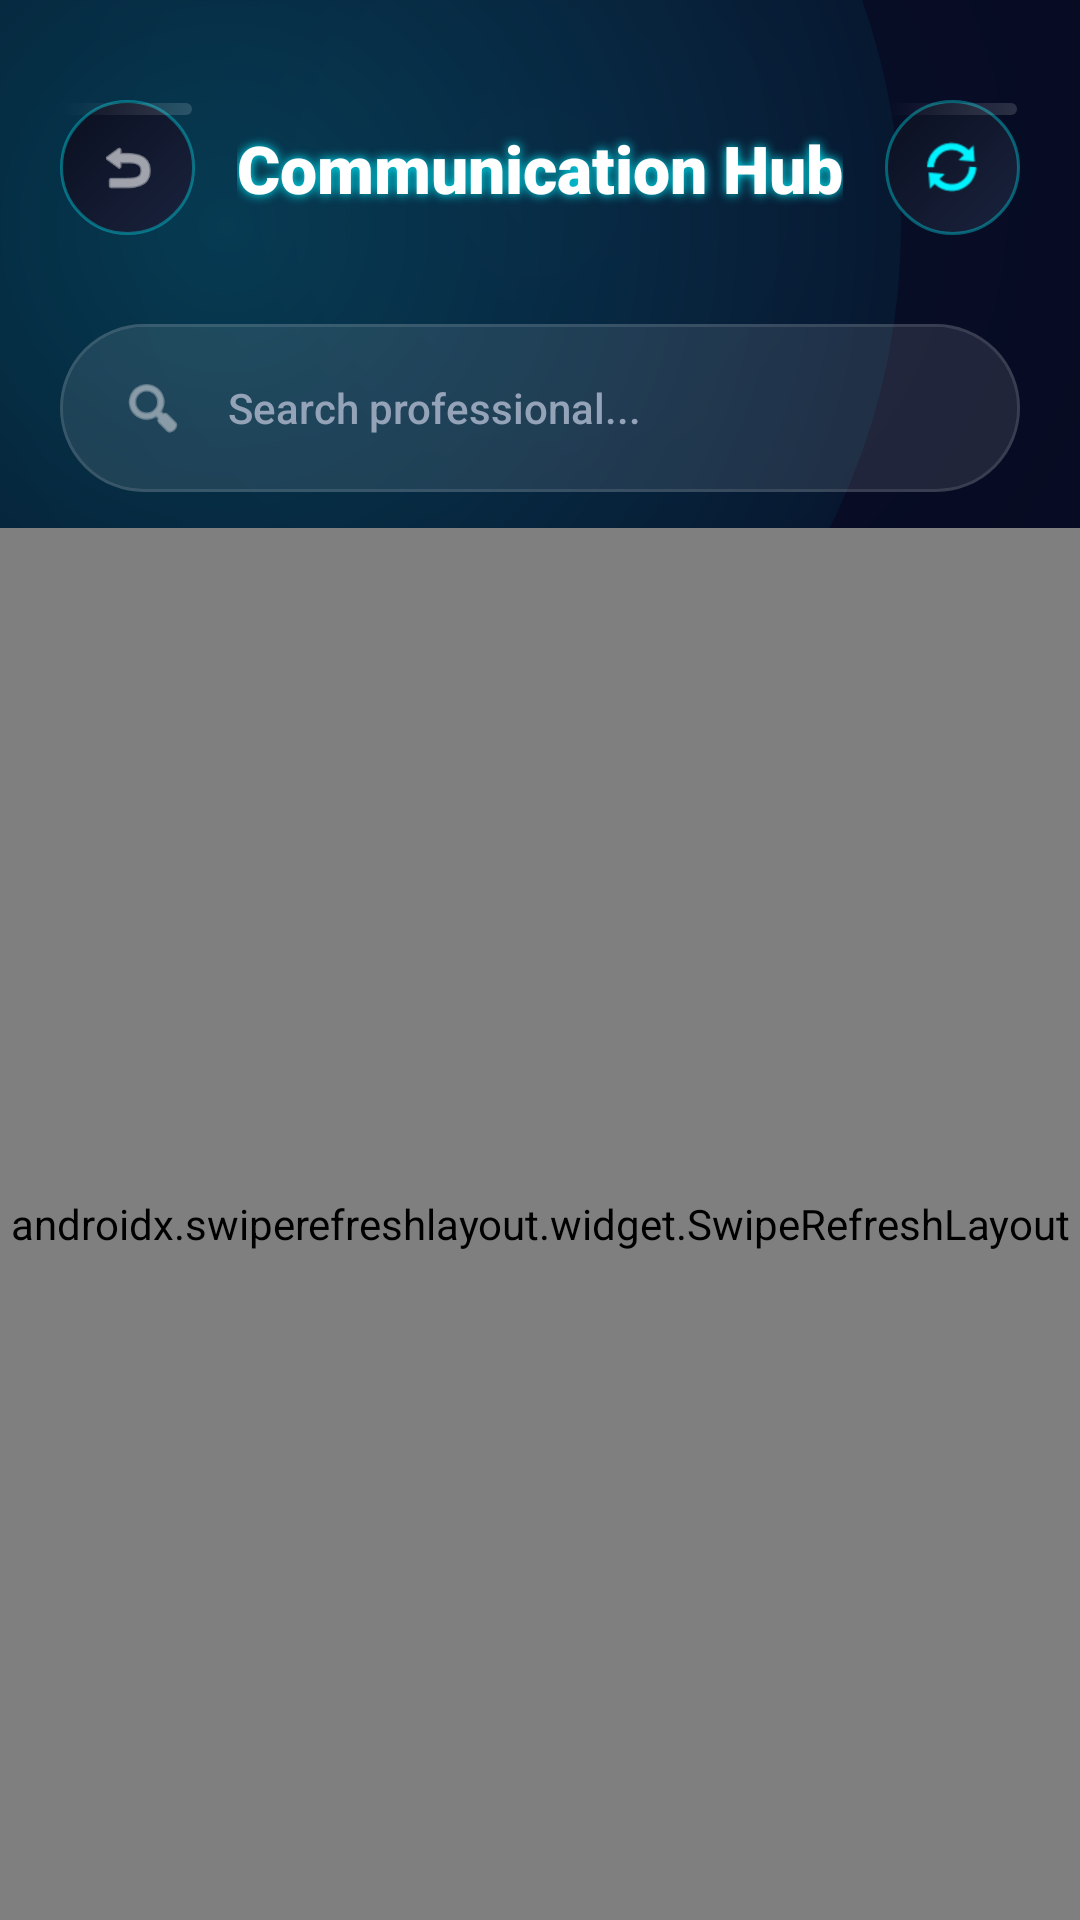

Screen size 1080 x 1920. Icon name, then its center in pixels as point (x, y):
popup sync: point (952, 167)
revert: point (127, 167)
